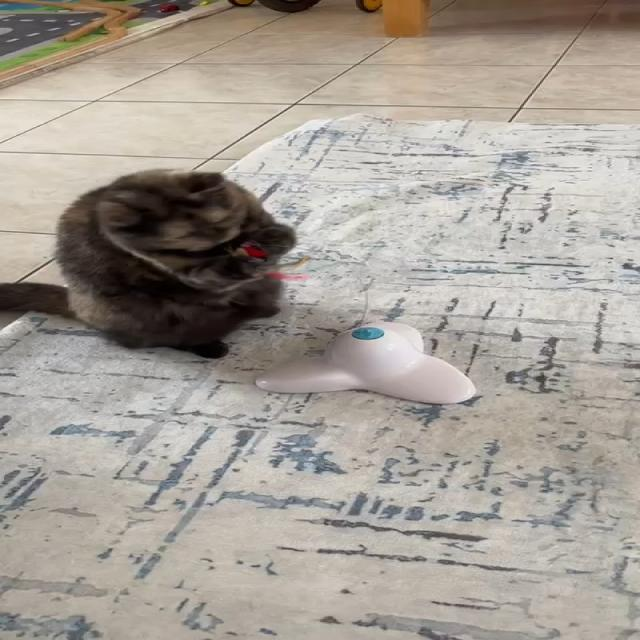authorized: (0, 167, 299, 359)
